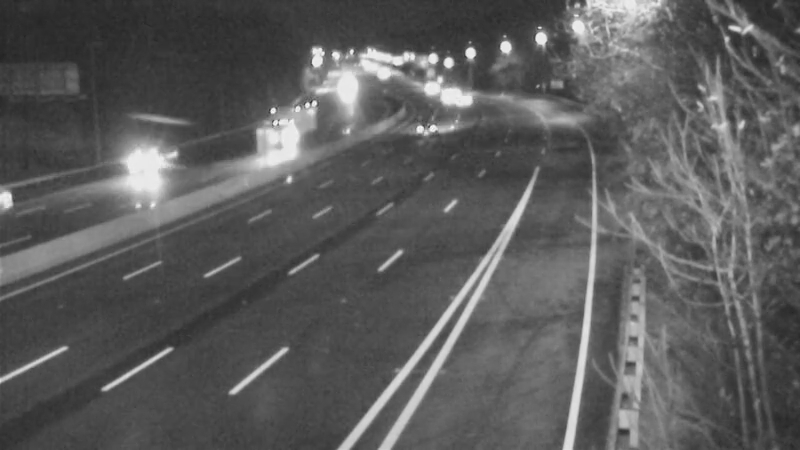vehicle: (106, 122, 186, 202), (403, 63, 453, 113), (423, 68, 473, 118), (437, 74, 487, 124), (403, 104, 453, 154), (259, 111, 309, 161)
